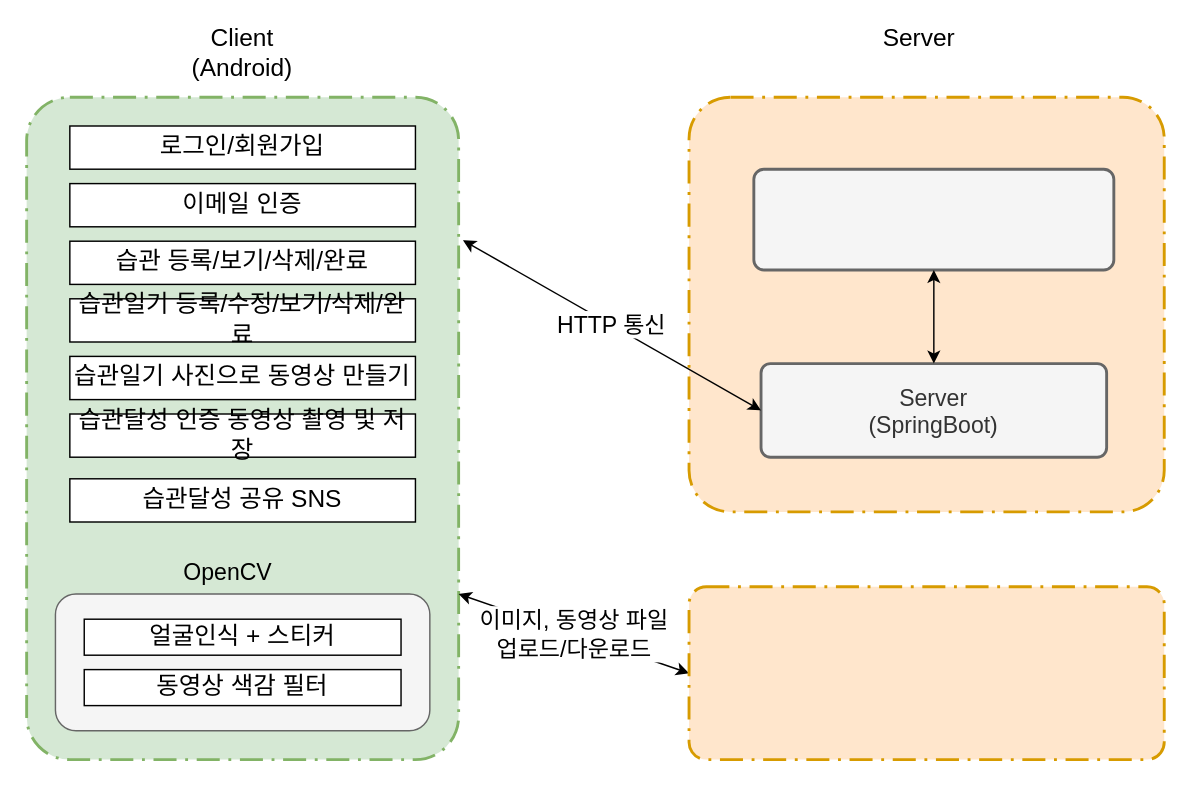
This 1189x786 diagram has some shape labels left out. Here are the shapes that lost their labels. From the top down, the centre of each, then its label:
pixel 933 219: DBMS (PostgreSQL)
pixel 926 672: AWS S3
